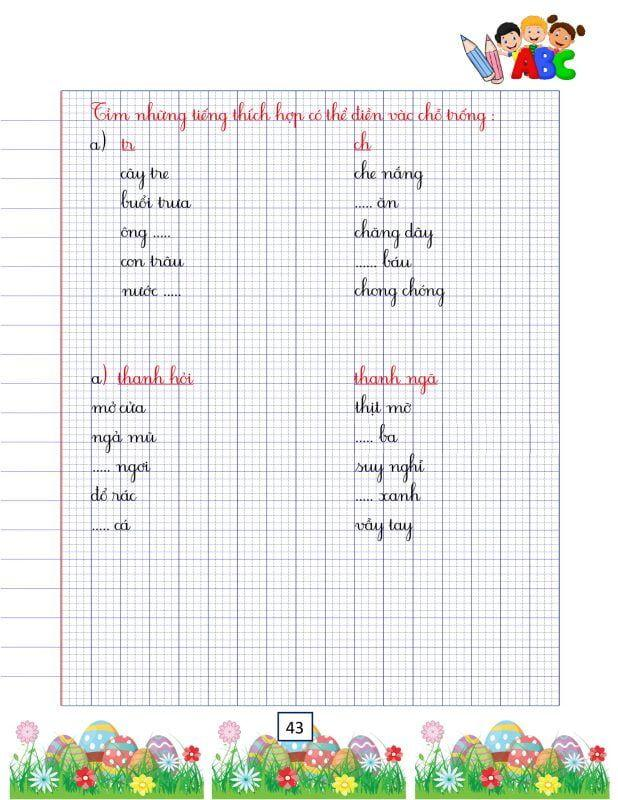text: (88, 98, 499, 136), (352, 275, 448, 309), (351, 363, 441, 396), (88, 362, 194, 388), (354, 217, 435, 250), (510, 46, 576, 83), (353, 451, 427, 484), (353, 158, 425, 191), (352, 514, 415, 543), (88, 429, 158, 454), (118, 187, 194, 210), (353, 481, 423, 504), (90, 460, 154, 484), (352, 392, 413, 416), (352, 248, 414, 269), (119, 166, 171, 191), (119, 224, 171, 248), (89, 129, 137, 154), (119, 282, 182, 299), (119, 253, 185, 269), (89, 398, 148, 414), (354, 424, 401, 444), (89, 484, 138, 503), (352, 195, 402, 210), (88, 518, 134, 534), (352, 129, 374, 152), (283, 719, 305, 736)
